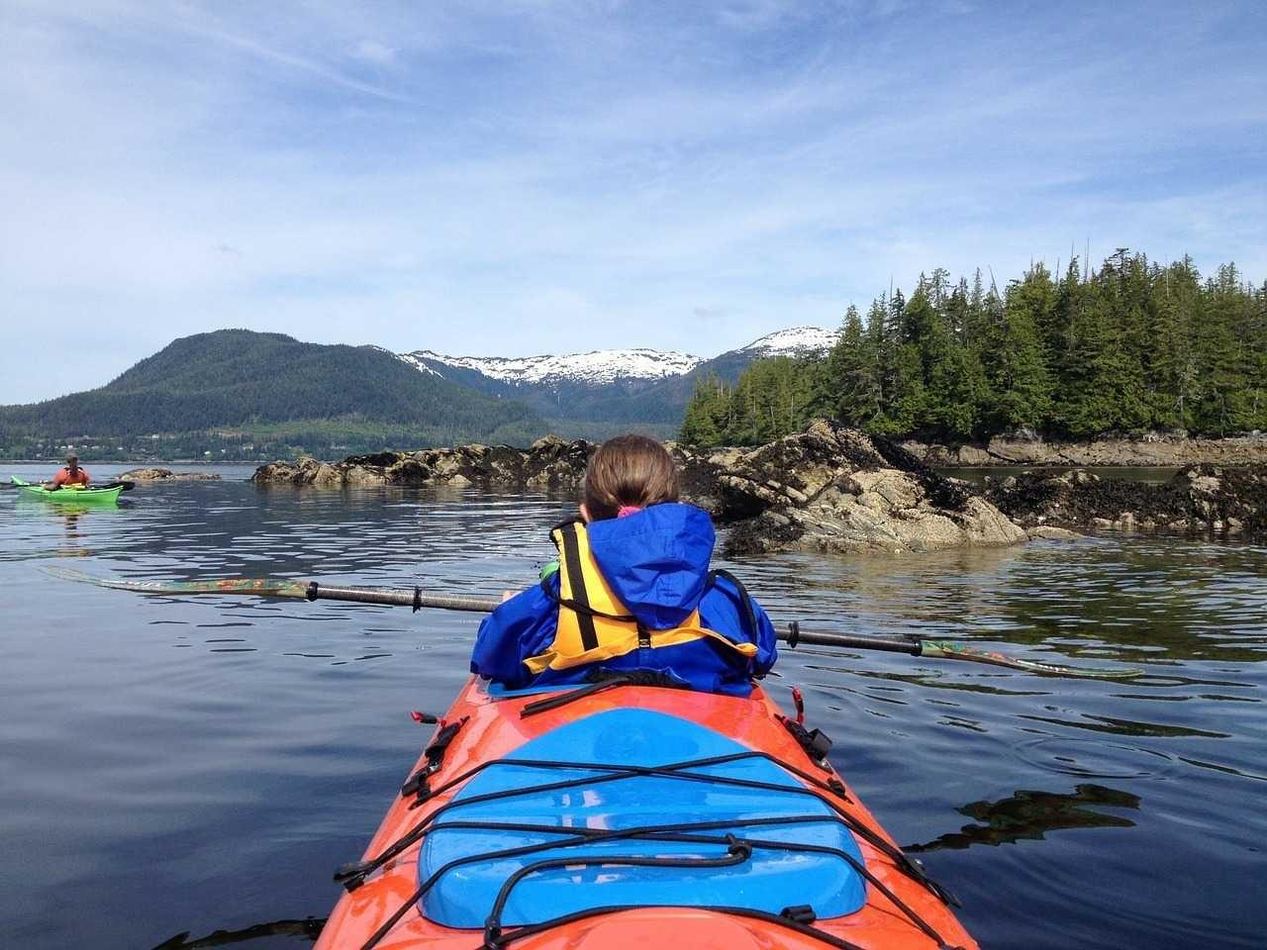kayak: (315, 669, 979, 949), (12, 479, 125, 505), (35, 453, 97, 498)
